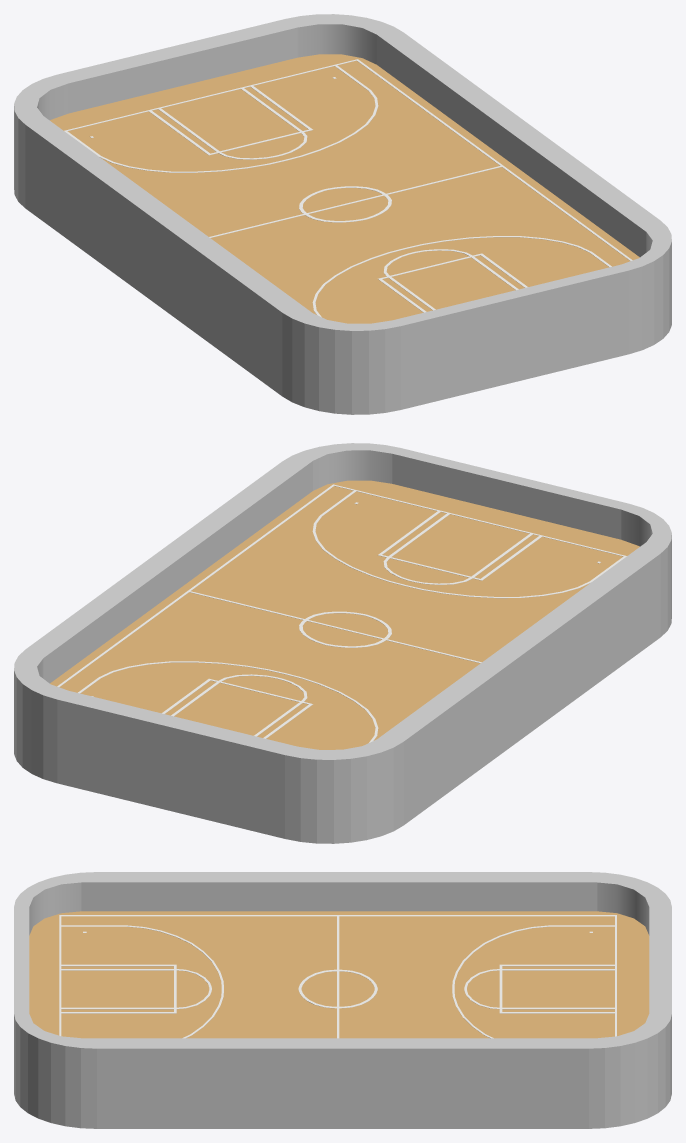
File: Basketball_platform.fbx
3 renders of one model, top to bottom at view 1: azimuth 30°, elevation 25°; view 2: azimuth 150°, elevation 25°; view 3: azimuth 270°, elevation 25°, orthographic. The views are drawn at different scales.
Visible parts, largest first — view 1: Cube, Basketball Court; view 2: Cube, Basketball Court; view 3: Cube, Basketball Court.
Part boxes in pixels (x1=…): Cube: x1=14, y1=14, x2=671, y2=414; Basketball Court: x1=50, y1=54, x2=639, y2=323; Cube: x1=14, y1=443, x2=671, y2=843; Basketball Court: x1=50, y1=480, x2=639, y2=749; Cube: x1=14, y1=872, x2=671, y2=1128; Basketball Court: x1=29, y1=911, x2=649, y2=1038.
Size of the model in its own units: 68.07 by 14.42 by 107.
